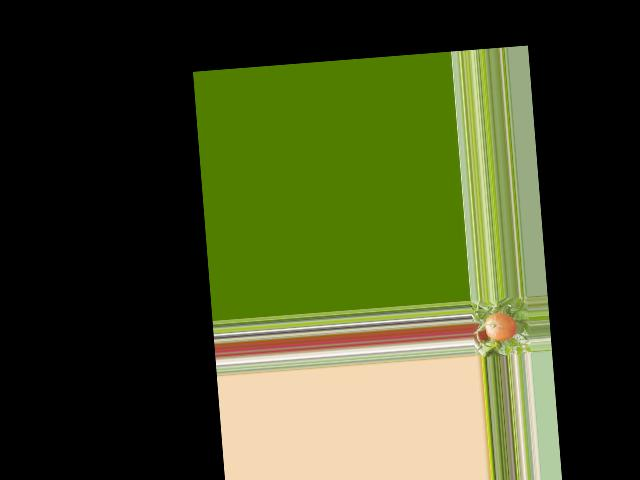tomato: (484, 311, 516, 341)
